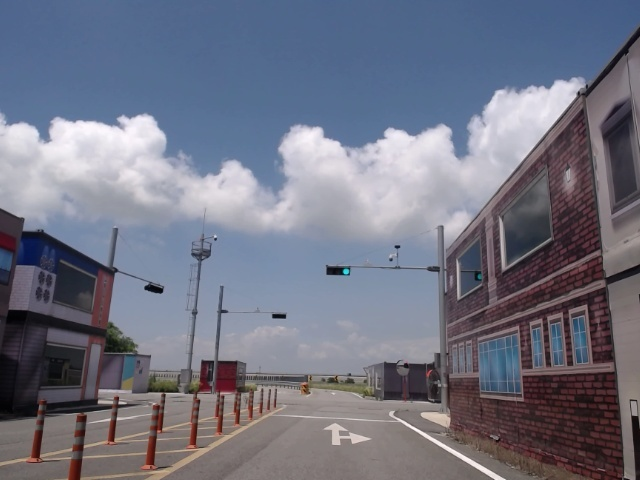green_3: (328, 267, 350, 275)
